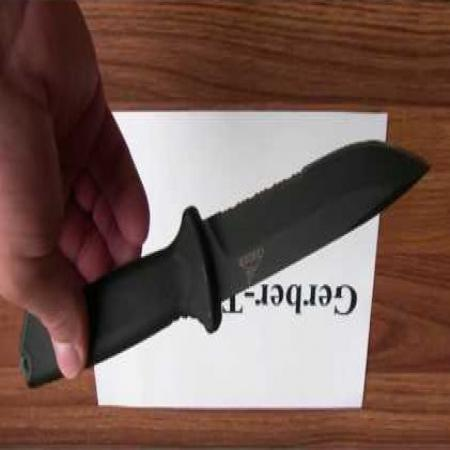long weapon: (57, 117, 444, 379)
